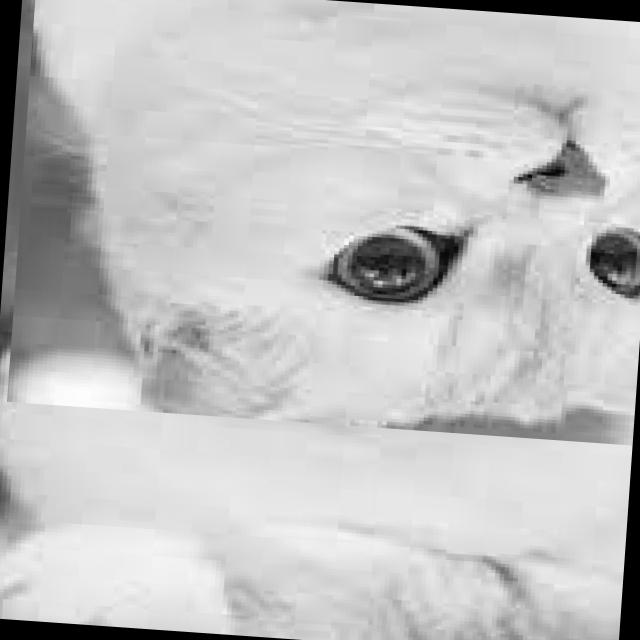scootish: (6, 0, 640, 445)
